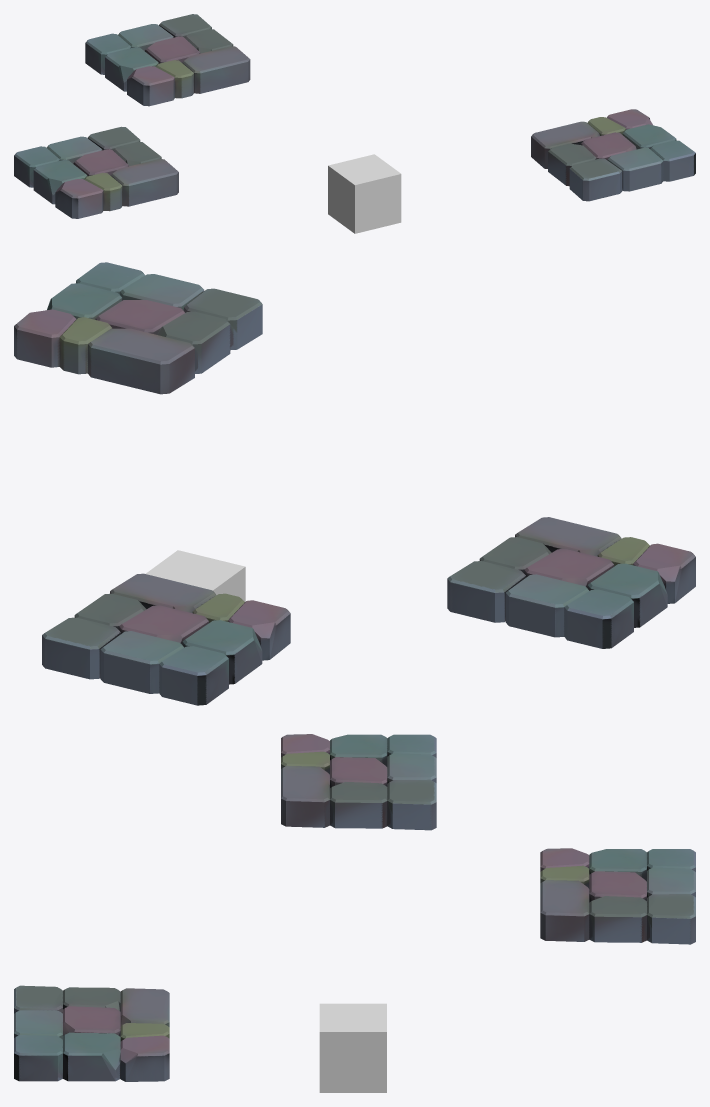
The model's file is battlescence-4-floor010.fbx.
3 renders of one model, top to bottom at view 1: azimuth 30°, elevation 25°; view 2: azimuth 150°, elevation 25°; view 3: azimuth 270°, elevation 25°, orthographic. The views are drawn at different scales.
Visible parts, largest first — view 1: Cube.084, Cube.080, Cube.069, battlescence-4-floor010; view 2: Cube.084, Cube.080, Cube.069, battlescence-4-floor010; view 3: Cube.069, Cube.080, Cube.084, battlescence-4-floor010.
Part boxes in pixels (x1,y1,x2,y2): Cube.084: (85, 14, 250, 106); Cube.080: (14, 126, 178, 218); Cube.069: (531, 109, 695, 201); battlescence-4-floor010: (328, 154, 401, 233); Cube.084: (42, 573, 290, 705); Cube.080: (447, 517, 695, 648); Cube.069: (14, 262, 262, 394); battlescence-4-floor010: (145, 550, 245, 601); Cube.069: (14, 985, 169, 1081); Cube.080: (281, 734, 436, 830); Cube.084: (540, 848, 695, 944); battlescence-4-floor010: (319, 1003, 386, 1092).
Bounding box in the file's own units: 1381 × 303 × 1253.
